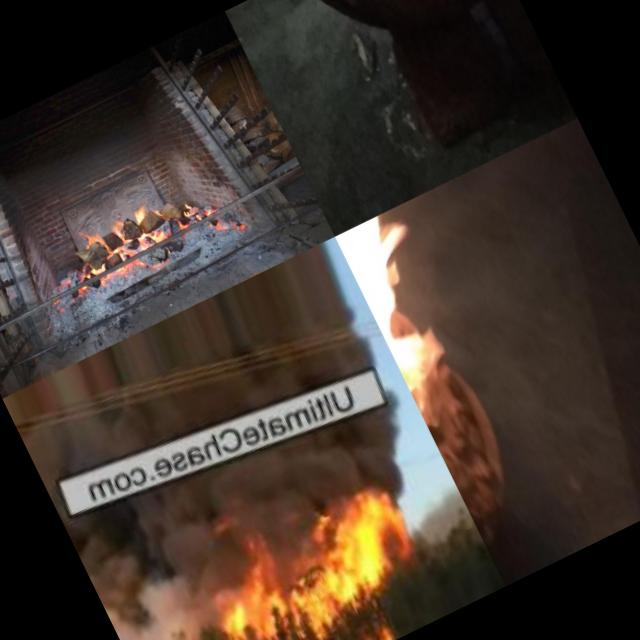fire: (334, 202, 519, 473), (181, 469, 427, 640), (57, 194, 173, 284)
smoke: (69, 493, 227, 640)
